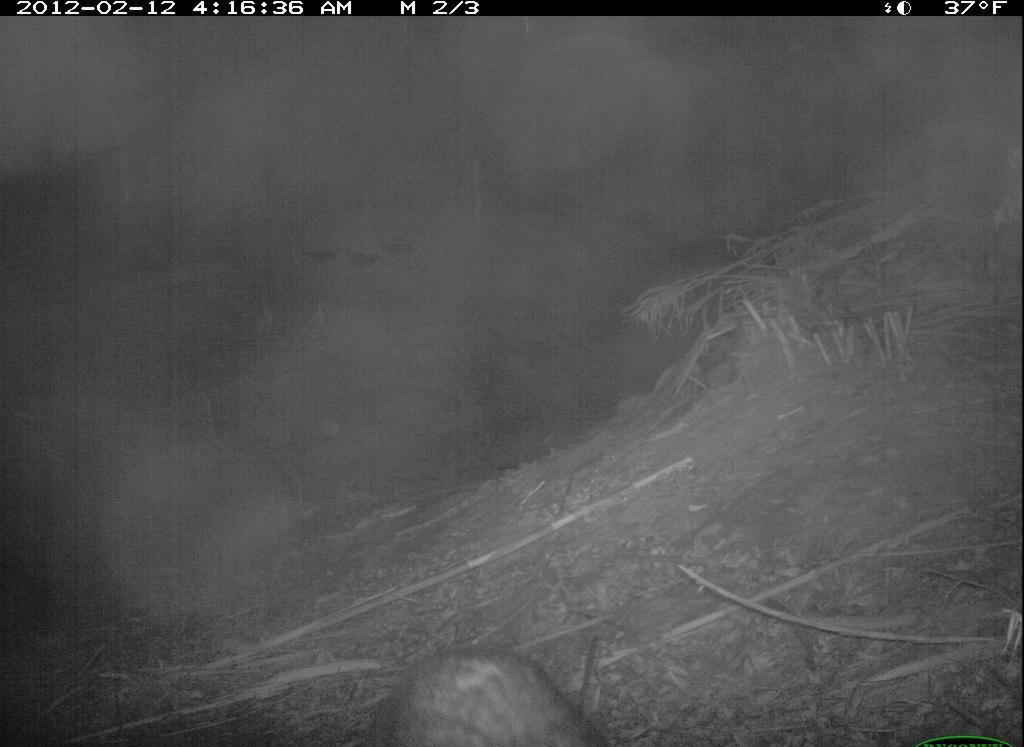raccoon: (379, 643, 609, 747)
